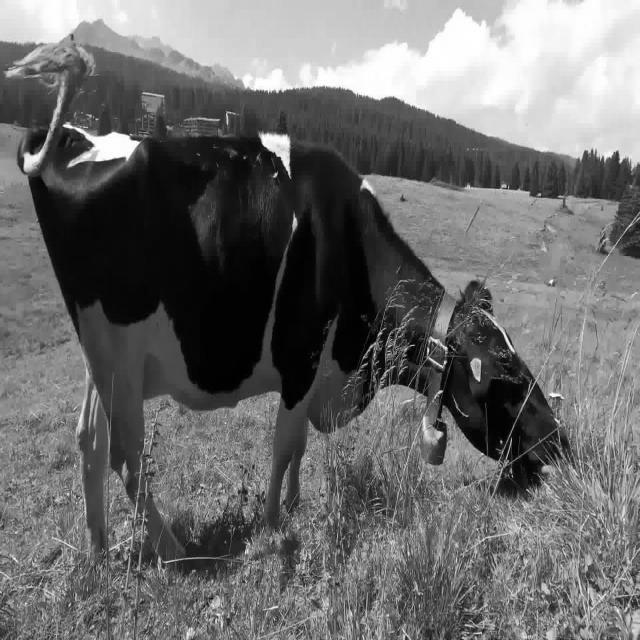cow: (8, 42, 566, 559)
